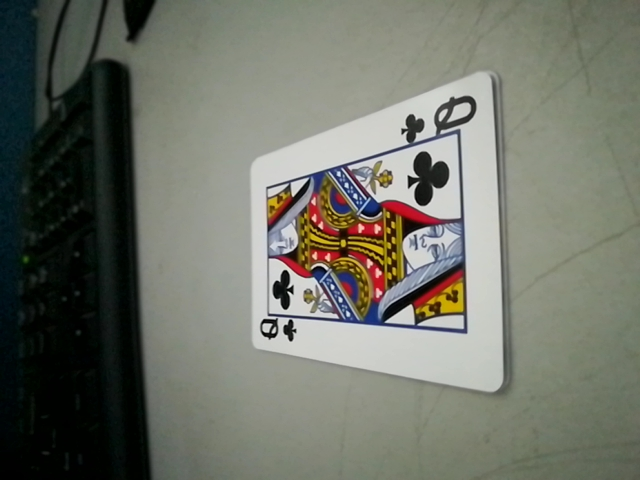mh q: (401, 90, 484, 143), (252, 311, 305, 349)
